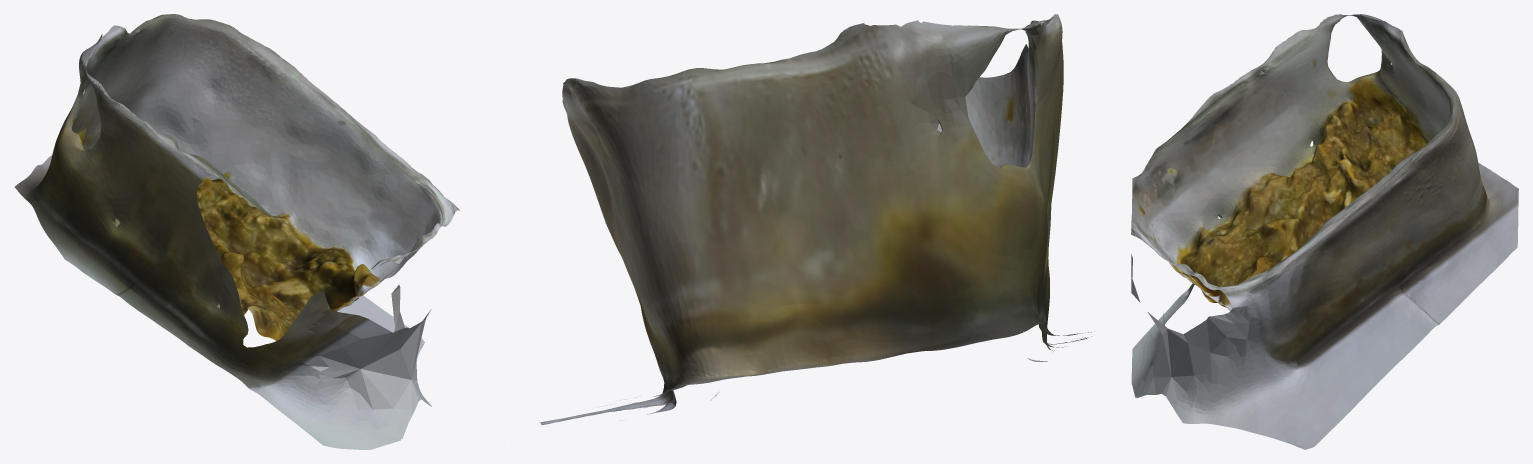
The model's file is salata.glb.
3 views of the same model, side by side, from view 1: azimuth 30°, elevation 25°; view 2: azimuth 150°, elevation 25°; view 3: azimuth 270°, elevation 25° (orthographic). The views are drawn at different scales.
Bounding box in the file's own units: 0.9009 × 0.8415 × 0.9644.
1 material, 1 textured.
